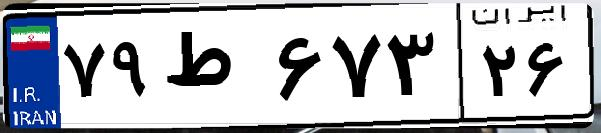2: (475, 38, 525, 113)
3: (385, 28, 445, 110)
6: (270, 28, 330, 110), (525, 38, 570, 115)
7: (330, 28, 385, 110), (57, 26, 110, 100)
9: (110, 28, 158, 98)
ط: (158, 20, 270, 120)
